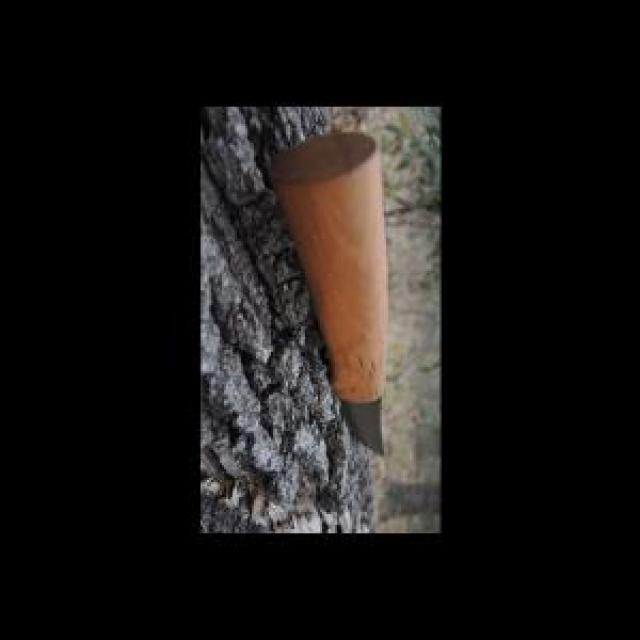knife: (273, 139, 393, 465)
